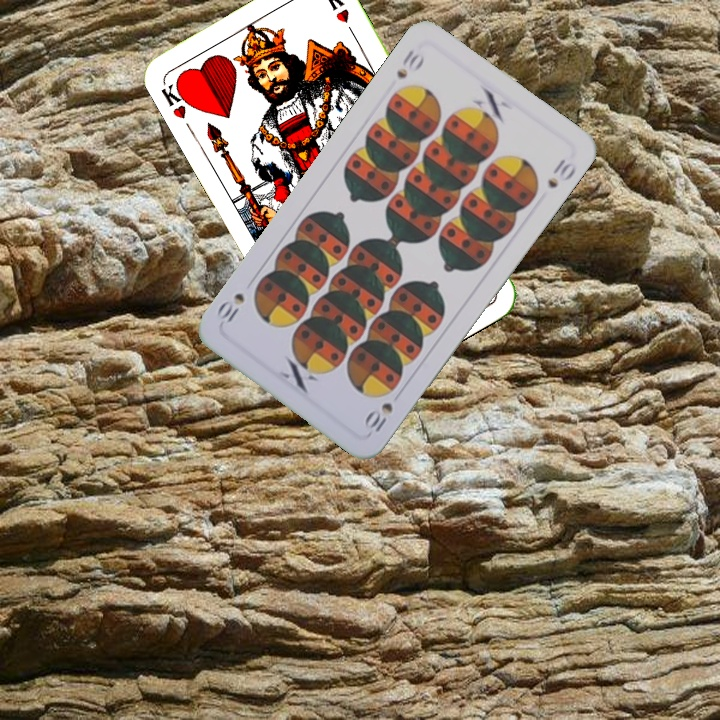HK: (157, 75, 196, 122)
S10: (360, 398, 396, 435), (392, 45, 428, 82)
